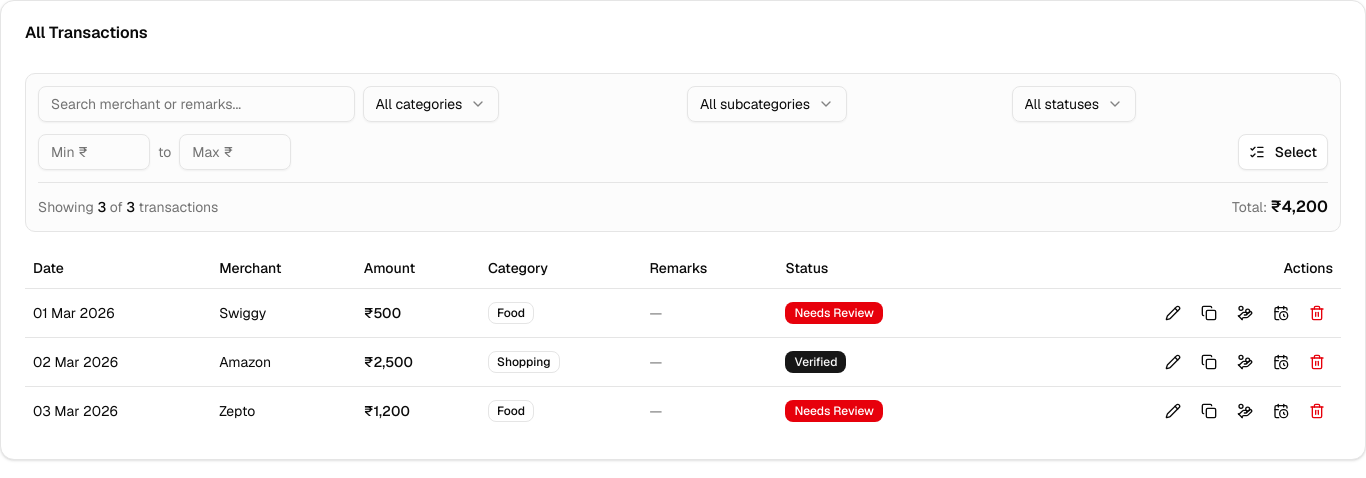
TransactionTable bulk select › selects and clears every visible row from the header checkbox
Click the button "Select": {"x": 1283, "y": 152} [1238,134,1328,170]
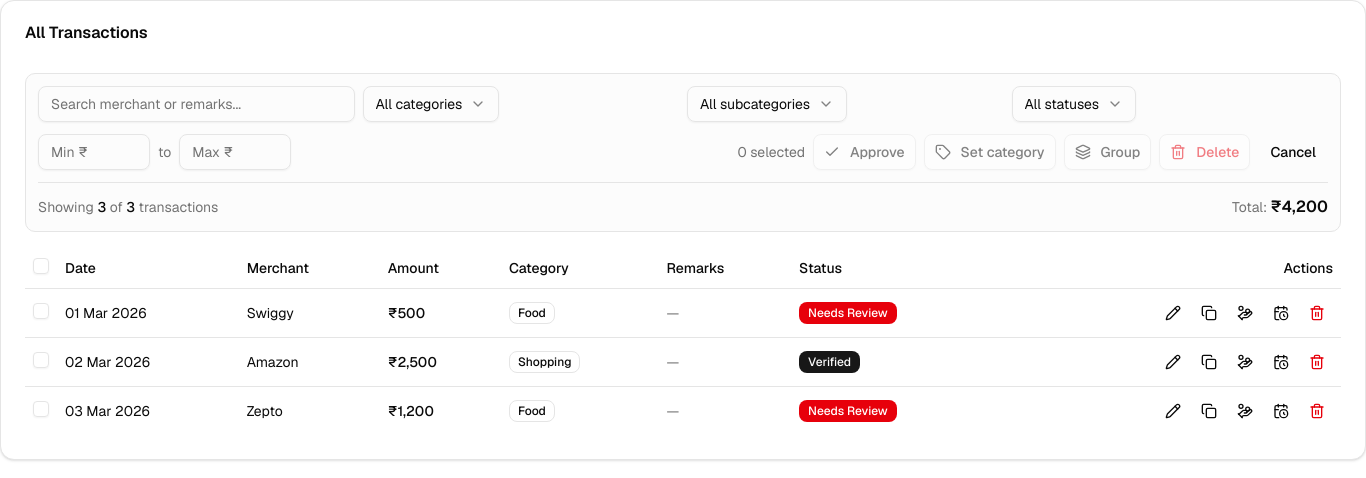
Click the checkbox named "Select all visible": {"x": 41, "y": 266} [33,258,49,274]
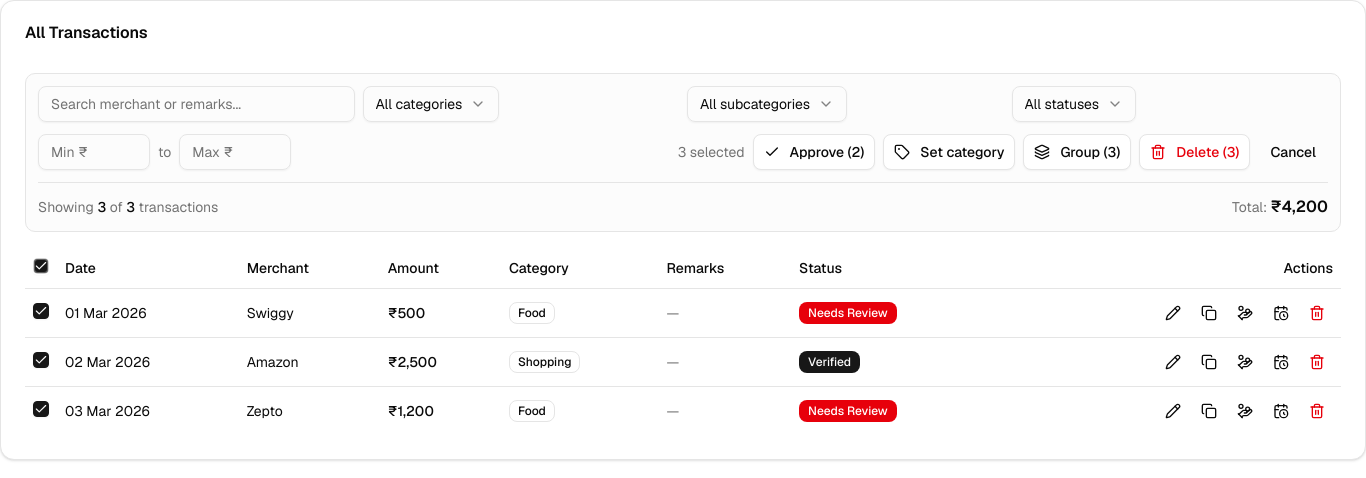
Result: the text "3 selected" is shown at [678,142,745,162]
Click the checkbox named "Select all visible": {"x": 41, "y": 266} [33,258,49,274]
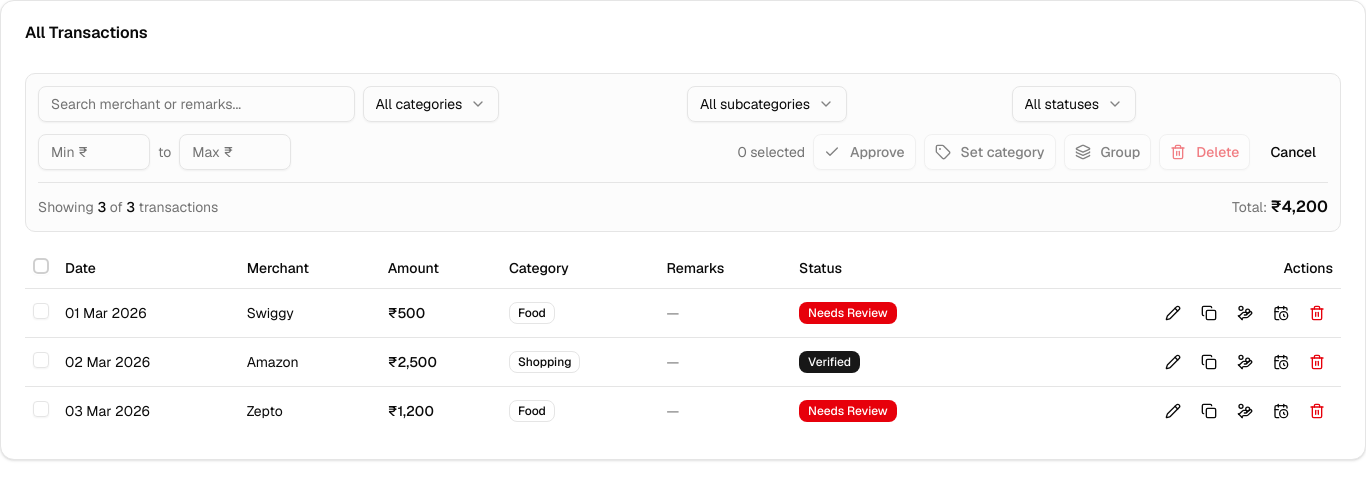
Result: the text "0 selected" is shown at [737,142,805,162]
